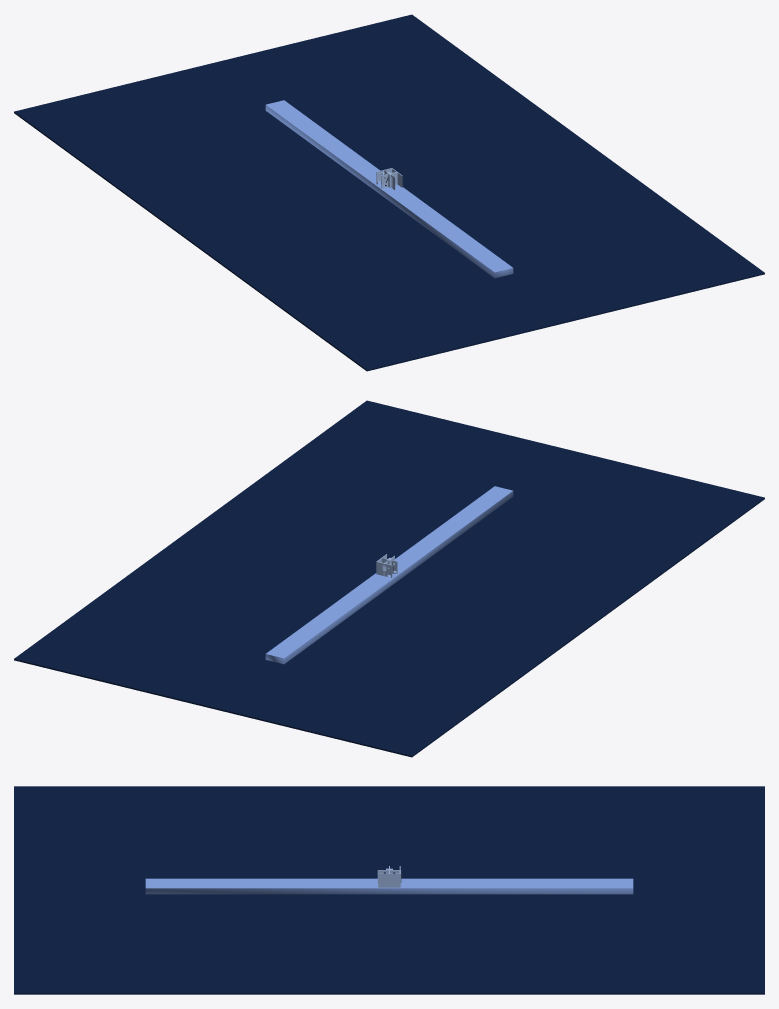
The picture shows the model from 3 angles, top to bottom: view 1: azimuth 30°, elevation 25°; view 2: azimuth 150°, elevation 25°; view 3: azimuth 270°, elevation 25°; orthographic projection. The views are drawn at different scales.
Parts seen in each view (by area): view 1: Plane.003, Obj3d66_4616838_8_509; view 2: Plane.003, Obj3d66_4616838_8_509; view 3: Plane.003, Obj3d66_4616838_8_509.
Boxes of the visible parts, <box> form: Plane.003: <box>14,14,764,371</box>; Obj3d66_4616838_8_509: <box>265,100,513,278</box>; Plane.003: <box>14,400,764,757</box>; Obj3d66_4616838_8_509: <box>265,486,513,664</box>; Plane.003: <box>14,786,764,994</box>; Obj3d66_4616838_8_509: <box>145,878,633,894</box>.
Bounding box in the file's own units: 183112 × 17327 × 281200.
